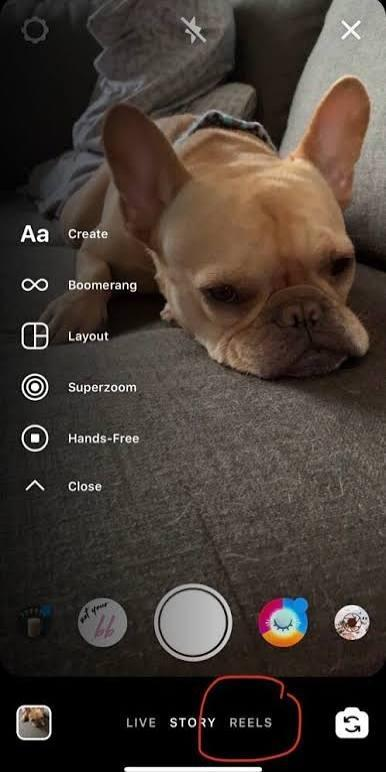adult_dog: (38, 73, 375, 380)
